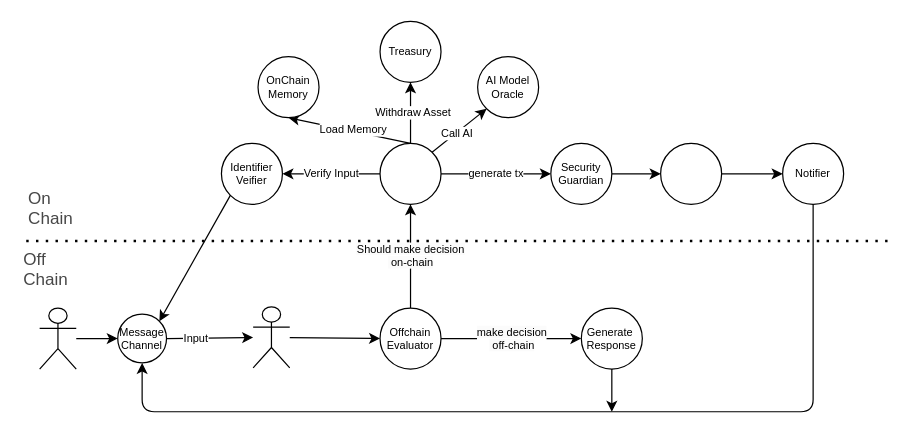
The diagram is 915 pixels wide and 443 high, and some of its shapes have lost their labels. Each missing label, with the centre of its shape:
"AI Agent" belongs at (271,337).
"Evaluator" belongs at (410,173).
"Execution Tx" belongs at (690,173).
"Human" belongs at (57,338).
